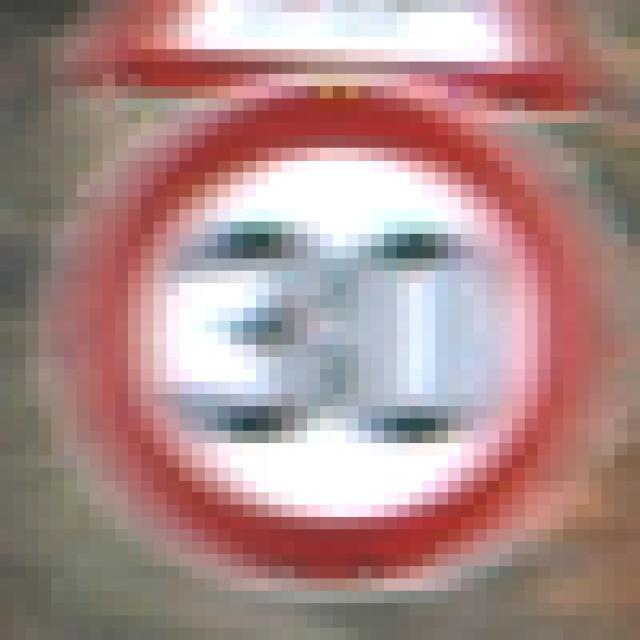Speed Limit -30-: (58, 55, 556, 560)
